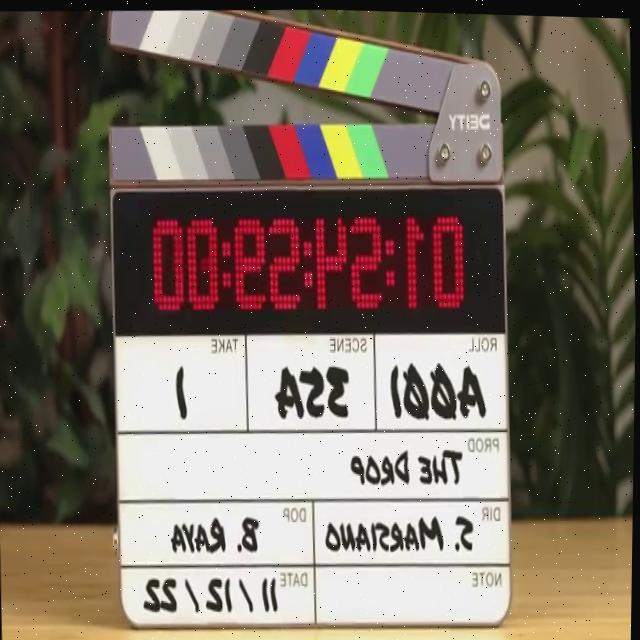Clapperboard: (99, 10, 511, 633)
